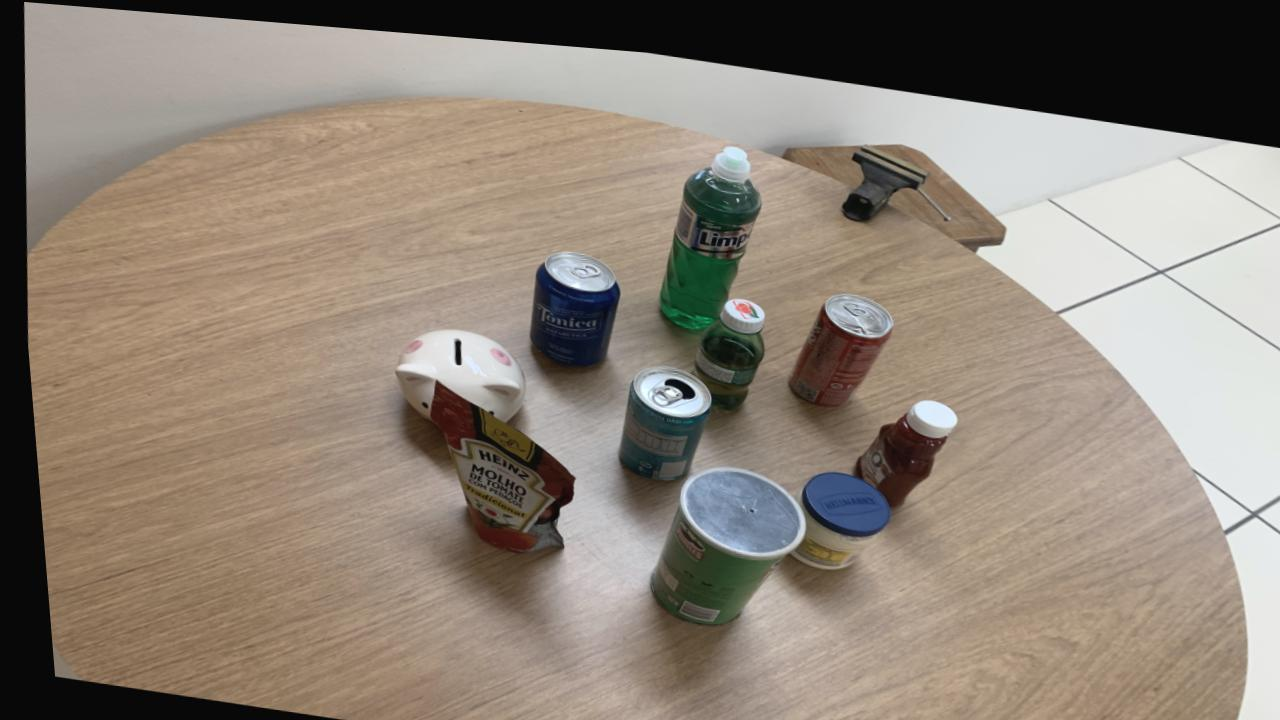Coke-Drinks: (784, 279, 889, 393)
Detergent-Cleanup_Items: (656, 134, 760, 318)
Guarana-Drinks: (688, 285, 759, 398)
Ketchup-Pantry_Items: (848, 384, 951, 492)
Mayonnaise-Pantry_Items: (783, 458, 883, 555)
Pig_Safe-Miscellaneous: (388, 321, 518, 413)
Pringles-Snacks: (642, 454, 798, 613)
Tea-Drinks: (610, 354, 703, 470)
Tomato_Sauce-Pantry_Items: (422, 374, 567, 545)
Tonic-Drinks: (526, 241, 616, 356)
